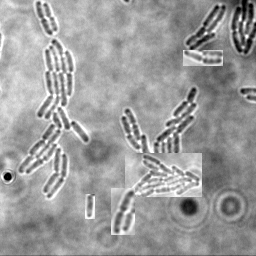Dividing: (111, 188, 135, 235), (34, 1, 52, 37), (183, 50, 223, 66), (41, 3, 57, 33), (85, 194, 95, 219)
Microcolony: (18, 40, 89, 199), (120, 87, 197, 181), (125, 153, 202, 197), (184, 5, 226, 52), (230, 1, 255, 56)
